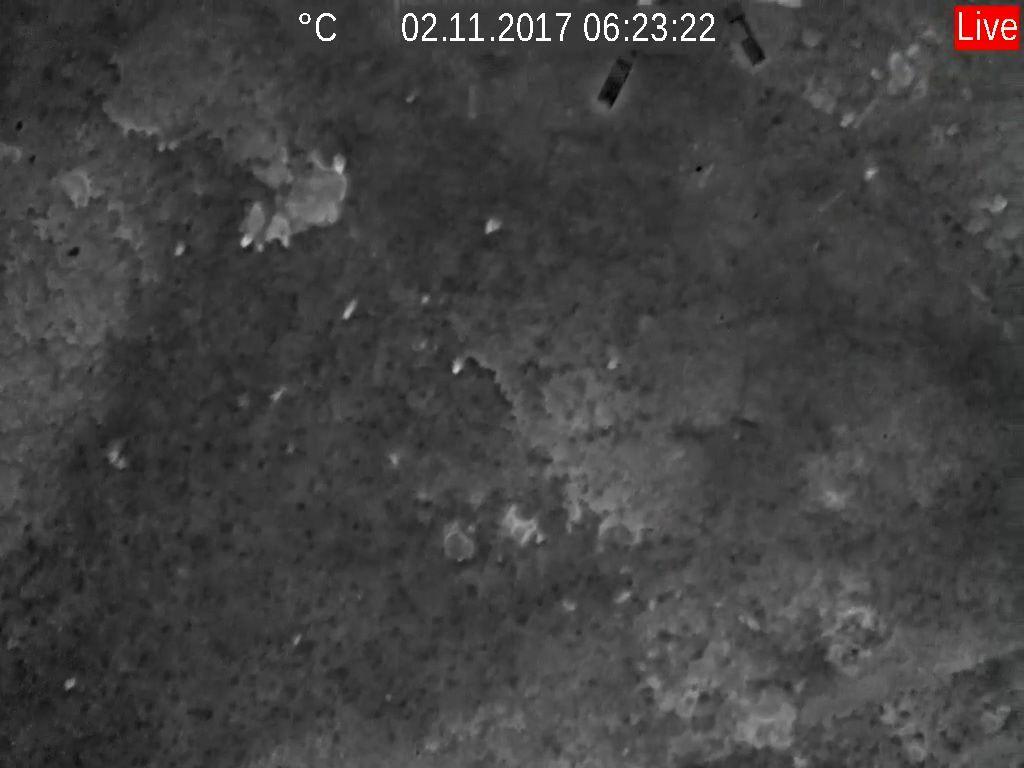warren: (459, 82, 484, 124), (693, 154, 719, 191), (340, 291, 362, 323), (481, 213, 506, 240), (444, 351, 468, 375), (604, 345, 623, 372)
